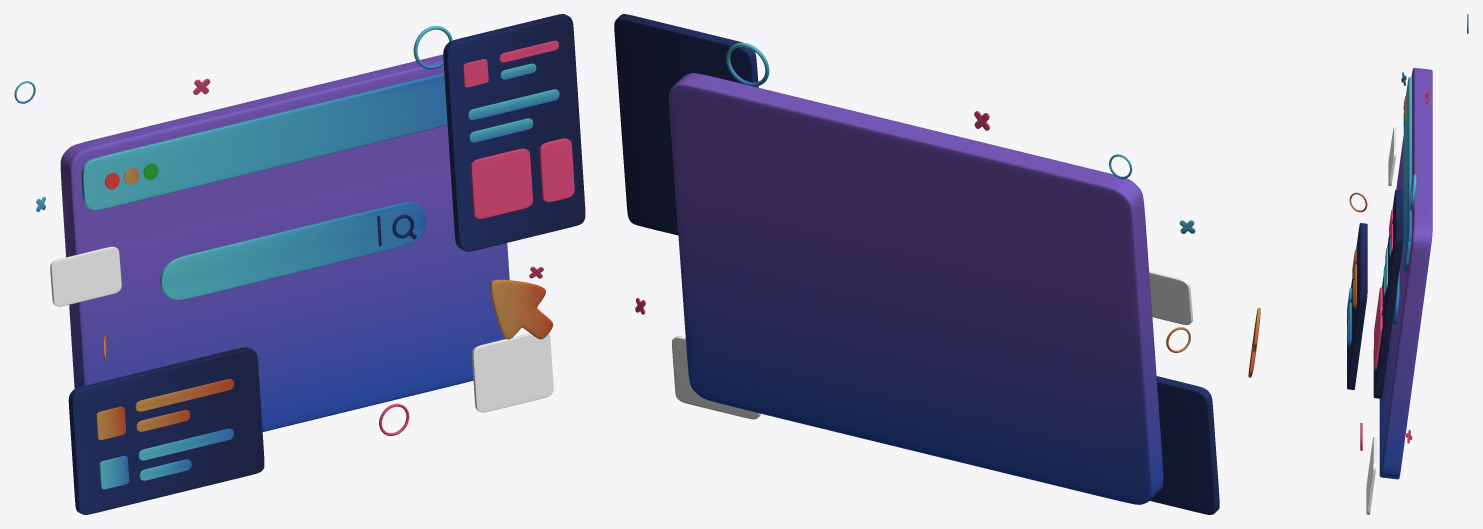
Rendered from search-engine-3d-animated-icon-1101175817984.glb.
3 views of the same model, side by side, from view 1: azimuth 30°, elevation 25°; view 2: azimuth 150°, elevation 25°; view 3: azimuth 270°, elevation 25° (orthographic). The views are drawn at different scales.
Visible parts, largest first — view 1: Cube, Landscape Frame, Potrait Frame, Cube.001, Cube.002, Cube.005, Potrait Frame.006, Cube.006, Plane, Potrait Frame.007, Landscape Frame.001, Landscape Frame.003 (+5 smaller); view 2: Cube, Potrait Frame, Landscape Frame, Cube.006, Cube.005; view 3: Cube, Potrait Frame, Landscape Frame, Cube.001, Cube.005, Plane, Cube.006, Potrait Frame.006.
Part boxes in pixels (left/top/right/bottom): Cube: left=60, top=54, right=509, bottom=431; Landscape Frame: left=68, top=347, right=264, bottom=514; Potrait Frame: left=443, top=14, right=585, bottom=251; Cube.001: left=81, top=73, right=447, bottom=210; Cube.002: left=160, top=201, right=426, bottom=299; Cube.005: left=472, top=333, right=553, bottom=412; Potrait Frame.006: left=470, top=148, right=532, bottom=218; Cube.006: left=50, top=246, right=121, bottom=306; Plane: left=490, top=279, right=553, bottom=339; Potrait Frame.007: left=539, top=138, right=574, bottom=202; Landscape Frame.001: left=135, top=379, right=234, bottom=411; Landscape Frame.003: left=138, top=428, right=233, bottom=460; Cube: left=669, top=73, right=1163, bottom=504; Potrait Frame: left=614, top=14, right=758, bottom=235; Landscape Frame: left=1150, top=376, right=1219, bottom=514; Cube.006: left=1149, top=270, right=1192, bottom=324; Cube.005: left=672, top=336, right=760, bottom=419; Cube: left=1379, top=68, right=1432, bottom=479; Potrait Frame: left=1373, top=189, right=1403, bottom=398; Landscape Frame: left=1347, top=223, right=1367, bottom=389; Cube.001: left=1403, top=77, right=1411, bottom=272; Cube.005: left=1366, top=437, right=1376, bottom=514; Plane: left=1248, top=308, right=1260, bottom=377; Cube.006: left=1388, top=127, right=1396, bottom=186; Potrait Frame.006: left=1374, top=287, right=1382, bottom=352.
Size of what is drawn, in the model's own units: 6.8 by 4.68 by 2.96.
12 materials, 7 textured.
